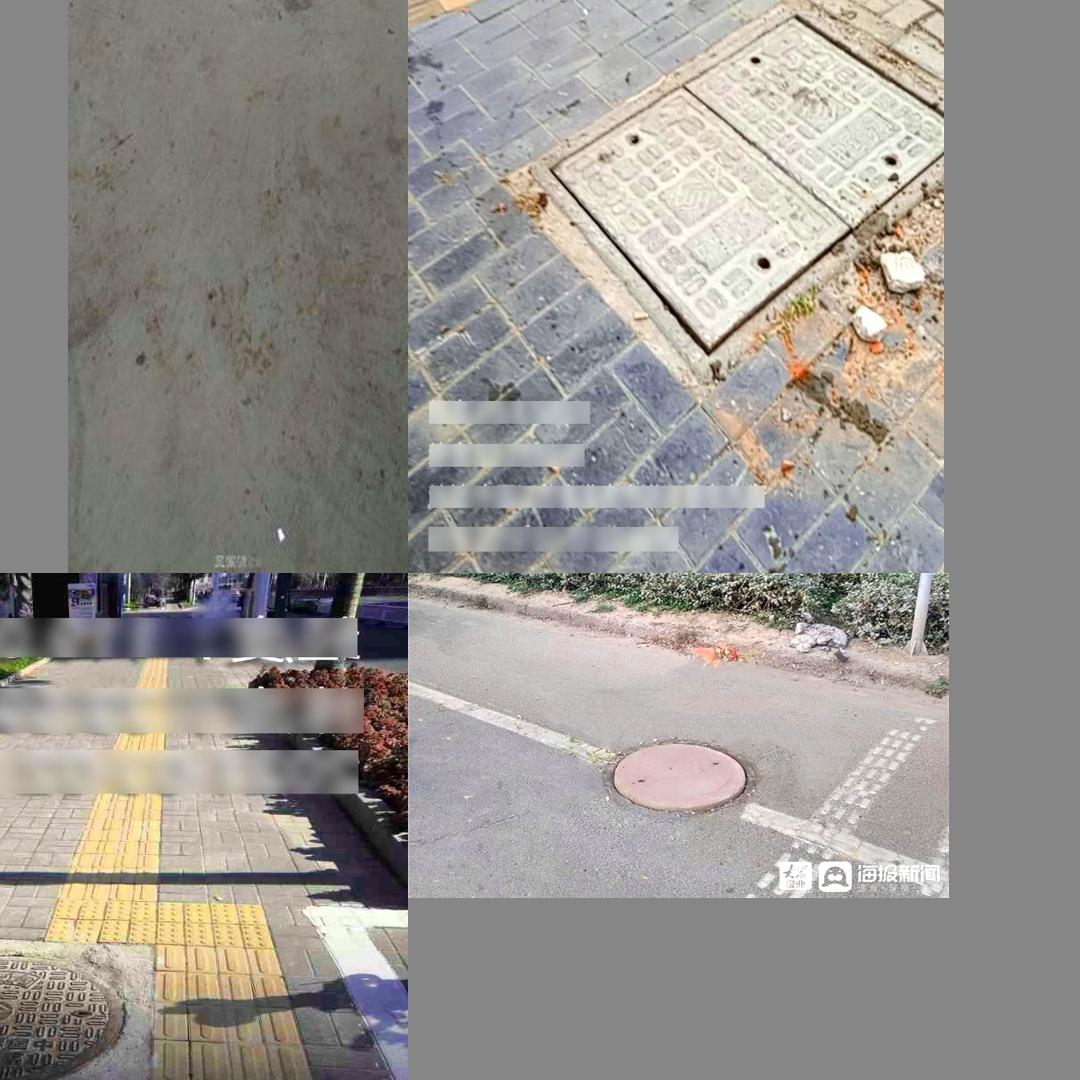good: (528, 0, 944, 383), (597, 731, 772, 820), (0, 954, 123, 1080), (136, 0, 377, 13)
